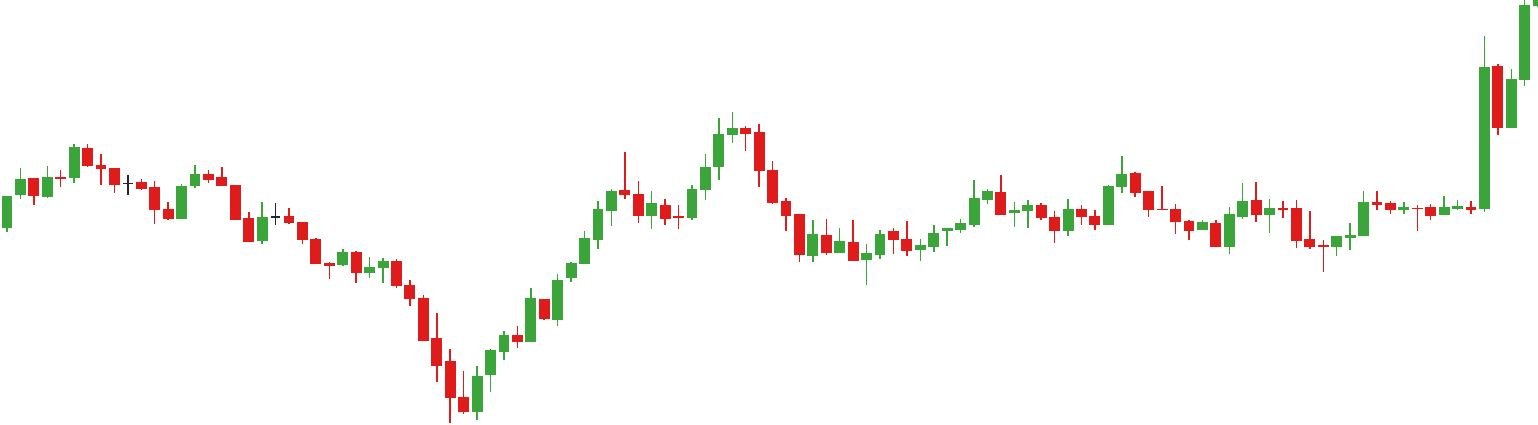buy: (1221, 201, 1345, 276)
sell: (617, 104, 767, 207)
